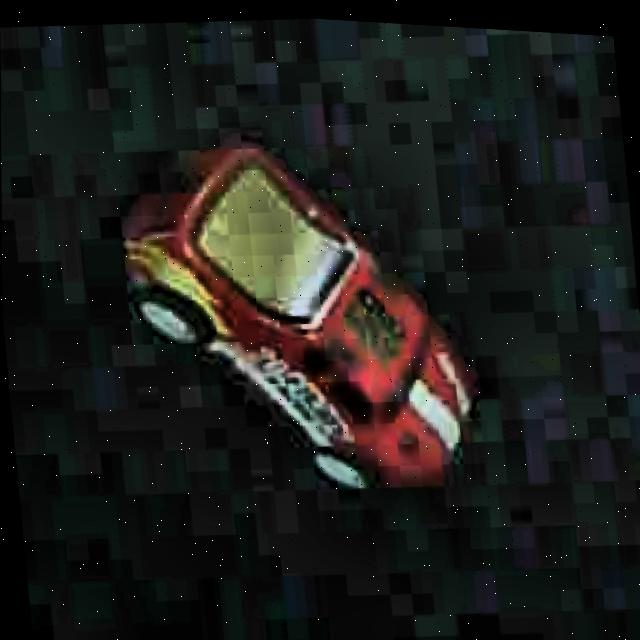car: (110, 116, 486, 522)
